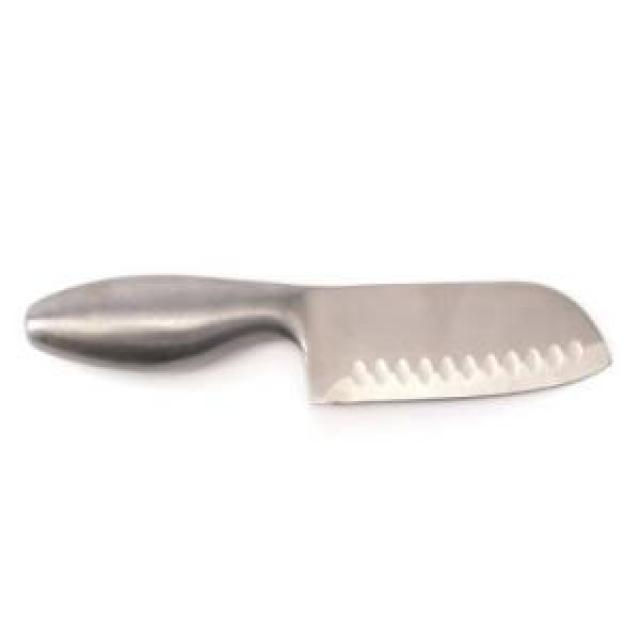knife: (23, 265, 623, 416)
